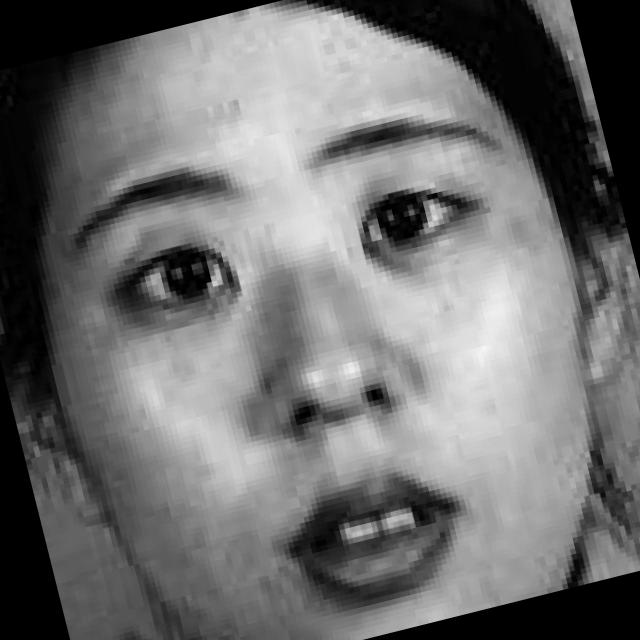fear: (27, 23, 625, 640)
